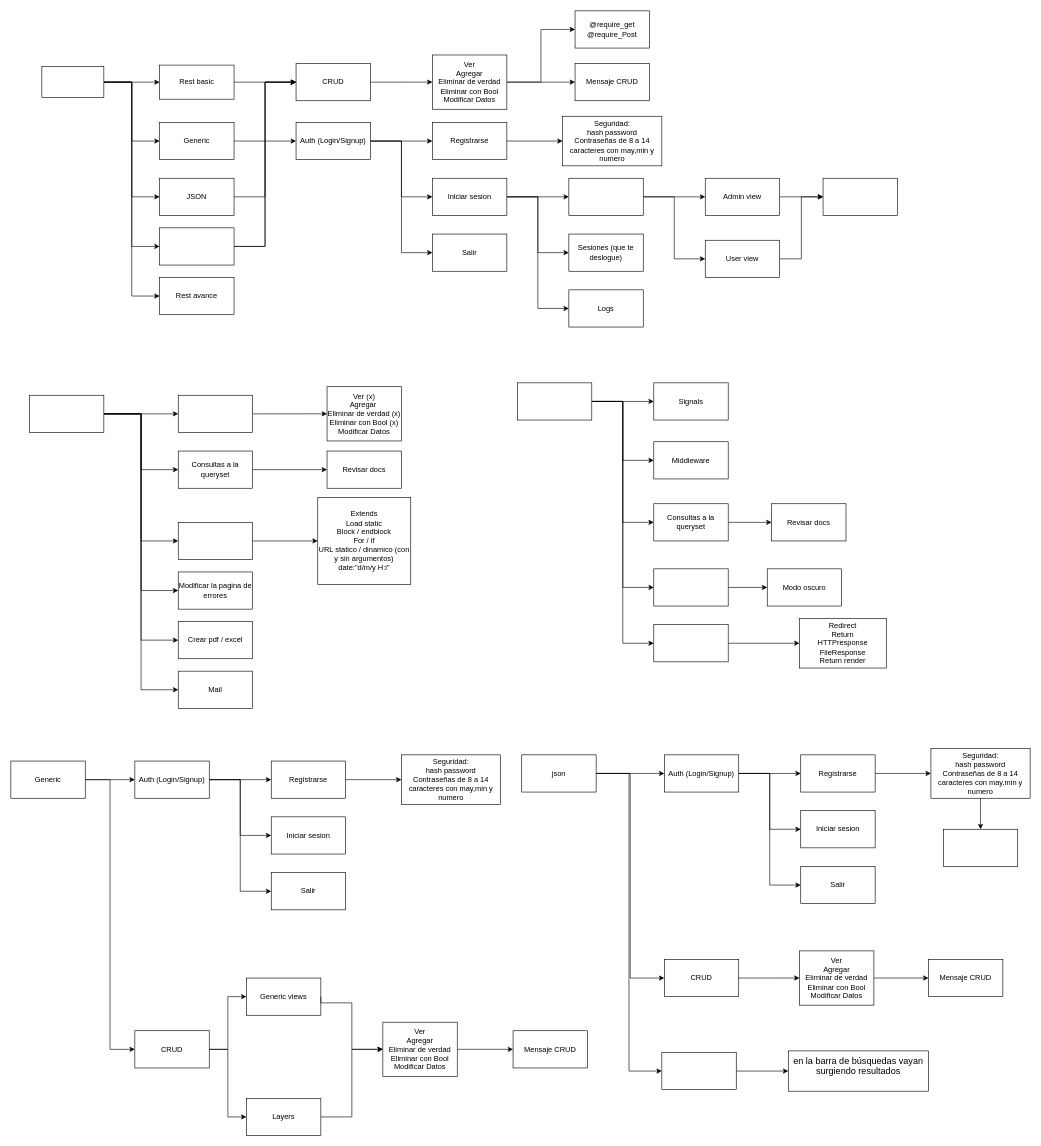
This 1041x1146 diagram has some shape labels left out. The shapes that lost their labels are listed below. From the top down, each one's centre as x and y in pixels, then its label:
(72,82): index
(605,196): Permisos / roles
(859,196): @Login_required @Permission
(196,246): Asgi
(66,413): Rest
(215,413): Forms
(554,401): Rest avanzado
(215,541): Creacion de HTML
(690,587): Cookies
(690,643): Tipo de respuesta
(980,847): Que te vaya diciendo que te falta
(698,1071): Buscar
